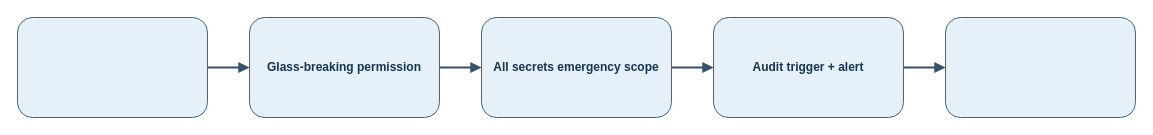
Image size: 1153x135. Some labels were removed from this diagram. The shapes that lost their labels are listed below. From the top down, each one's centre as x and y in pixels, then its label:
At point 112,67: "Normal role + secret ACL".
At point 1040,67: "Deactivate / normal ACL".
